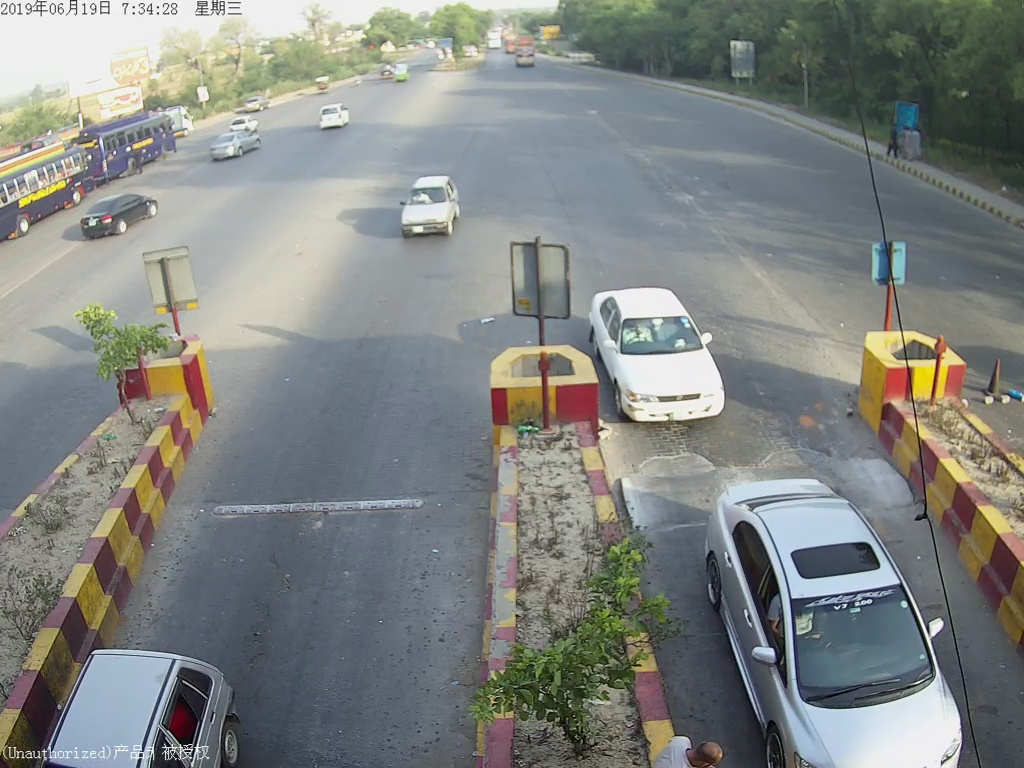Cat-1: (707, 485, 954, 730), (605, 286, 737, 437), (395, 174, 470, 246)
